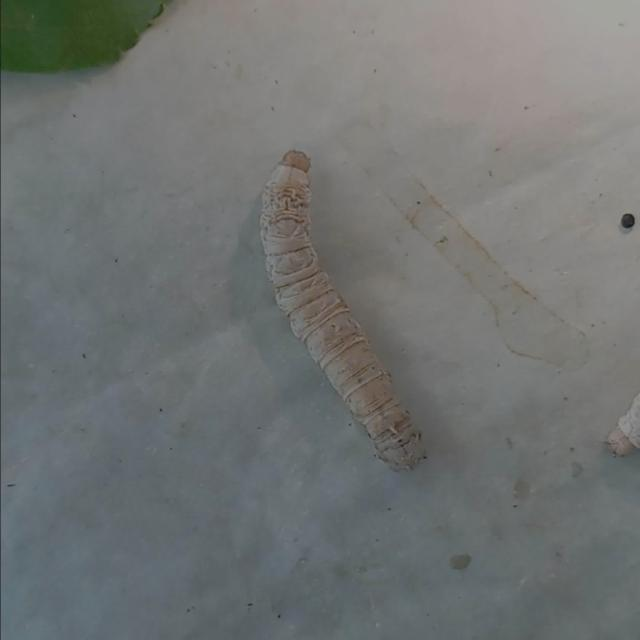Grasserie: (230, 125, 438, 488)
